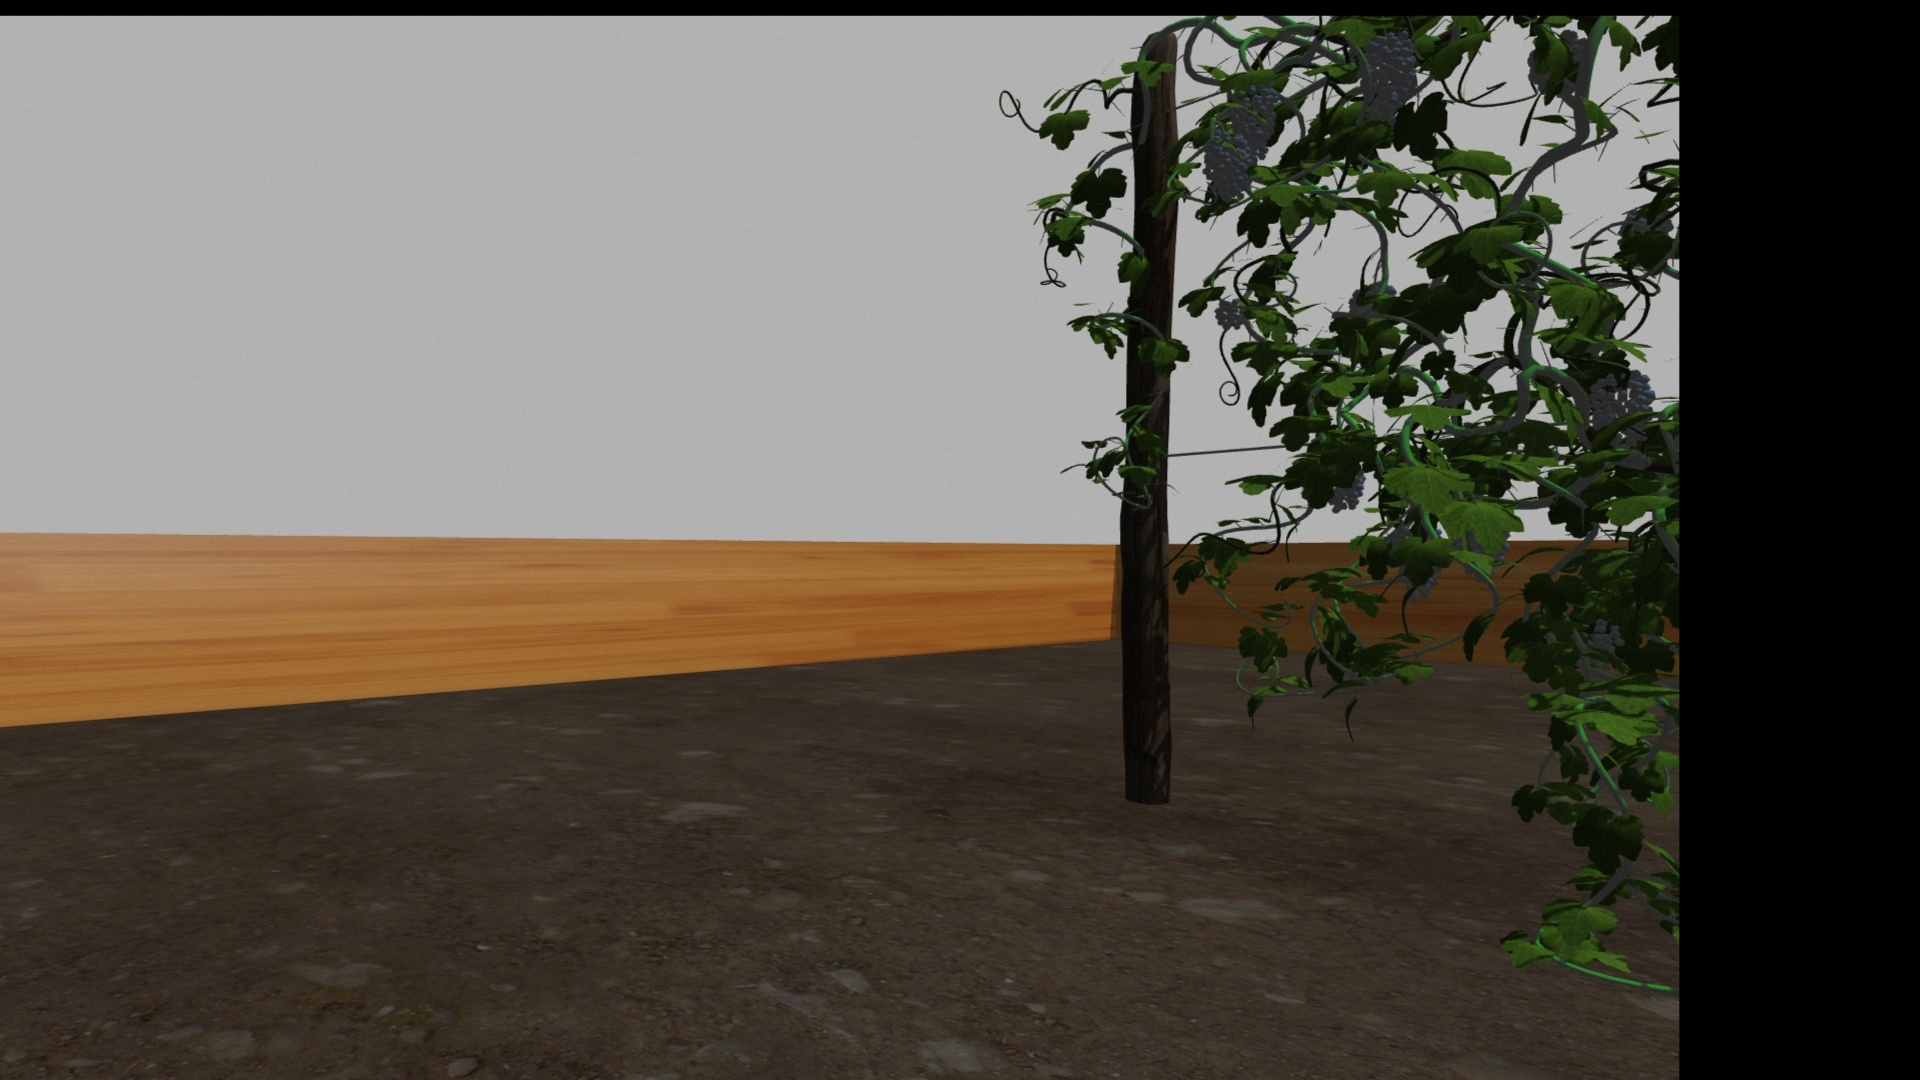grape: (1357, 29, 1420, 127), (1584, 369, 1658, 450), (1201, 131, 1250, 203), (1228, 86, 1276, 158), (1213, 297, 1247, 334)
